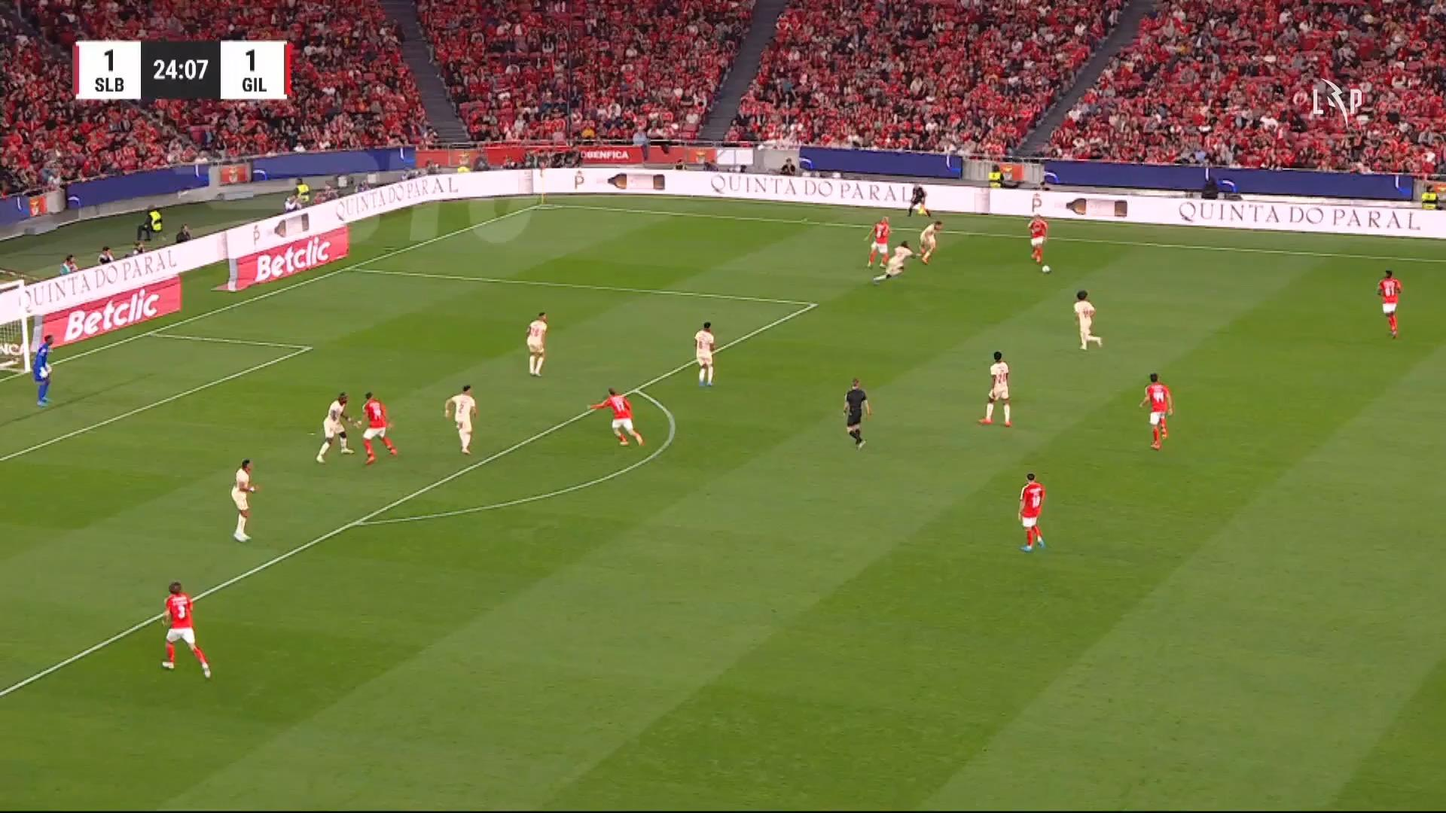ball: (1041, 264, 1051, 273)
goalkeeper: (32, 333, 53, 406)
player: (160, 581, 211, 679), (587, 387, 645, 446), (315, 391, 359, 463), (358, 391, 398, 465), (978, 350, 1012, 427), (1139, 372, 1173, 449), (230, 458, 259, 542), (444, 384, 477, 455), (1017, 472, 1046, 552), (1072, 289, 1103, 350), (1377, 269, 1402, 338), (877, 239, 917, 279), (525, 311, 548, 377), (863, 215, 891, 269), (694, 321, 715, 387), (918, 220, 943, 265), (1027, 213, 1047, 263)
referee: (841, 377, 871, 450), (907, 183, 931, 218)
